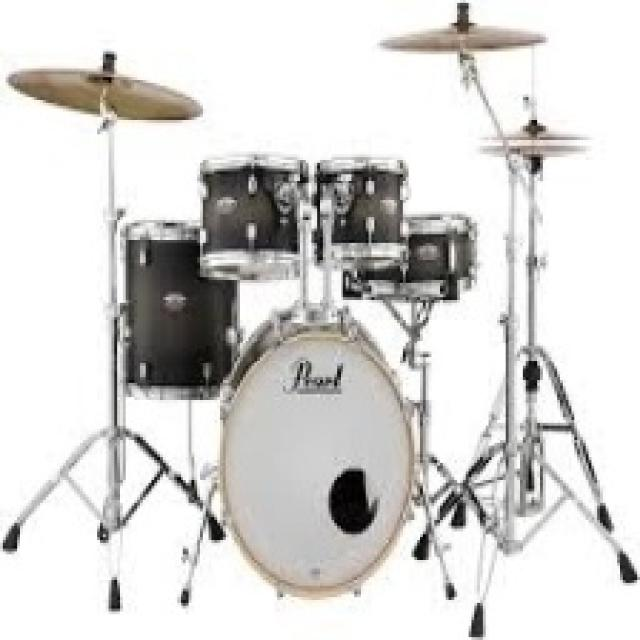drums: (7, 8, 630, 614)
